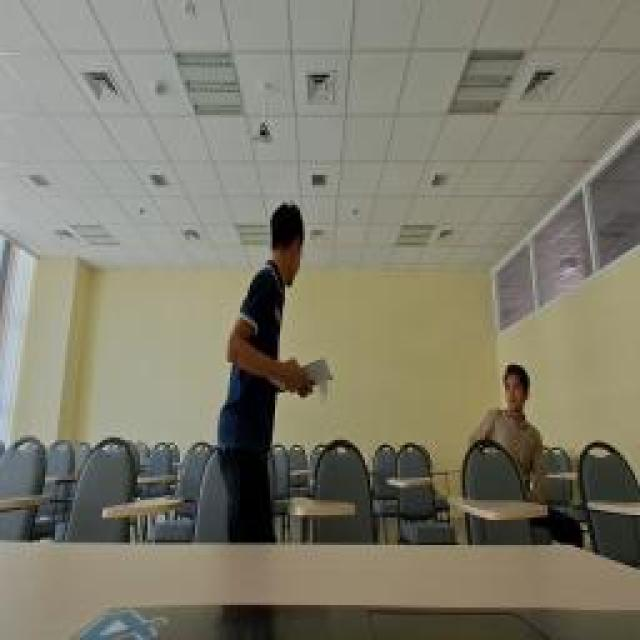study: (475, 355, 545, 505)
